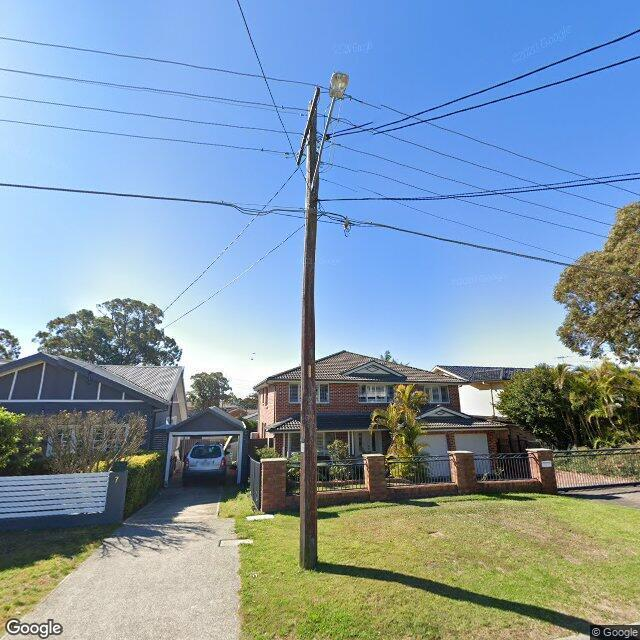crossarm: (296, 85, 324, 167)
streetlight: (311, 72, 348, 192)
timber-pole: (299, 103, 318, 571)
